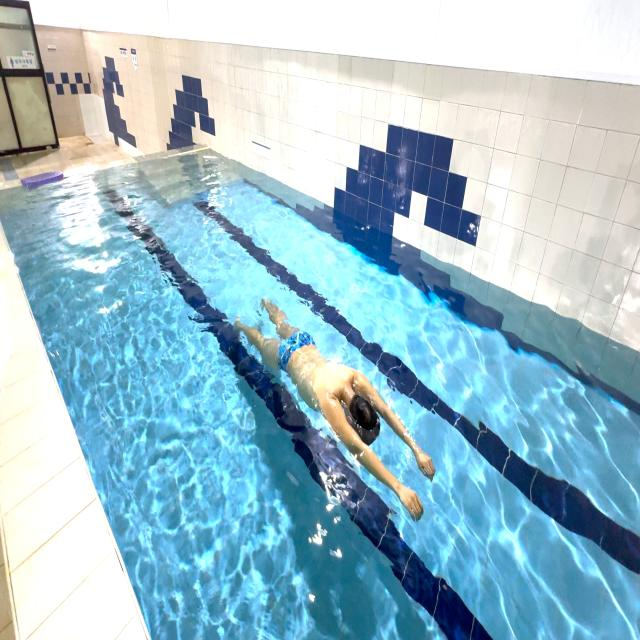Swimming: (228, 266, 442, 536)
